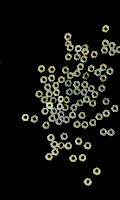nut: (84, 178, 93, 187), (47, 134, 56, 142), (100, 128, 108, 137), (31, 115, 39, 124), (40, 76, 49, 84), (94, 168, 102, 176), (79, 154, 87, 162), (52, 149, 60, 157), (58, 142, 66, 150), (61, 133, 69, 141), (75, 138, 83, 146), (108, 129, 116, 137), (22, 114, 30, 122), (112, 105, 120, 113), (90, 119, 98, 127), (82, 121, 90, 129), (63, 116, 71, 124), (56, 118, 64, 126), (49, 115, 57, 123), (79, 112, 87, 120), (58, 111, 66, 119), (71, 104, 79, 112), (92, 91, 100, 99), (74, 88, 82, 96), (88, 85, 96, 93), (99, 85, 107, 93), (82, 81, 90, 89), (58, 76, 66, 84), (38, 65, 46, 73), (83, 72, 91, 80), (95, 69, 103, 77), (100, 64, 108, 72), (88, 65, 96, 73), (65, 33, 73, 41), (75, 45, 83, 53), (69, 156, 78, 163), (84, 143, 93, 150), (48, 66, 57, 73), (100, 75, 109, 82), (46, 154, 54, 161), (51, 141, 58, 149), (65, 143, 73, 150), (43, 122, 51, 129), (103, 110, 111, 117), (96, 114, 104, 121), (74, 121, 81, 129), (103, 98, 111, 105), (42, 108, 50, 115), (90, 100, 97, 108), (84, 96, 91, 104), (47, 102, 54, 110), (57, 103, 64, 111), (63, 104, 70, 112), (77, 100, 85, 107), (64, 96, 71, 104), (50, 97, 58, 104), (41, 97, 49, 104), (36, 91, 44, 98), (46, 91, 54, 98), (53, 89, 61, 96), (67, 88, 74, 96), (81, 89, 89, 96), (44, 84, 52, 91), (74, 81, 82, 88), (65, 80, 73, 87), (48, 75, 56, 82), (62, 67, 70, 74), (68, 72, 75, 80), (74, 70, 82, 77), (107, 68, 114, 76), (77, 64, 85, 71), (81, 56, 89, 63), (74, 53, 81, 61), (65, 54, 73, 61), (82, 44, 89, 52), (91, 51, 99, 58), (101, 47, 109, 54), (109, 49, 117, 56), (103, 25, 110, 33), (109, 42, 117, 49), (102, 40, 110, 47), (70, 112, 77, 119), (51, 108, 58, 115), (58, 96, 65, 103), (53, 82, 60, 89), (67, 45, 74, 52), (82, 49, 90, 55), (65, 41, 72, 47), (116, 46, 120, 54)
